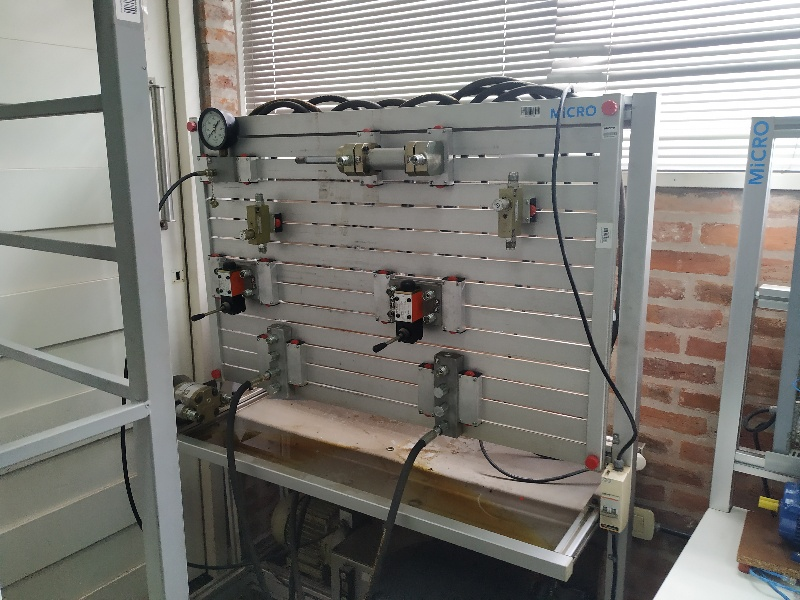Tablero 5: (186, 120, 614, 471)
